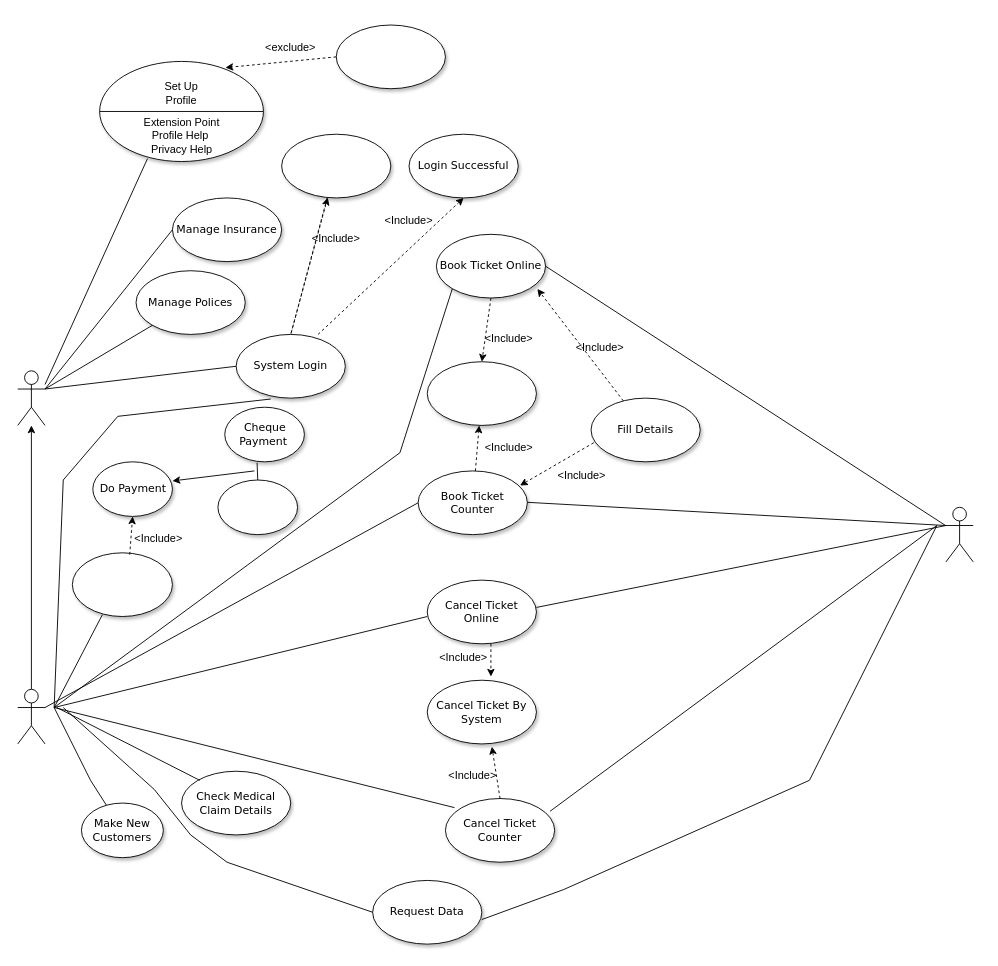
Some shapes in this 998 by 966 pixel diagram are drawn without their labels. Each missing label, with the centre of its shape:
Admin: the point at 31,397
Agent: the point at 31,716
Book Ticket By System: the point at 482,394
Cash Payment: the point at 258,508
Customer: the point at 959,534
Error Login Details: the point at 336,167
Manage Payment: the point at 123,585
Profile Help: the point at 391,57
